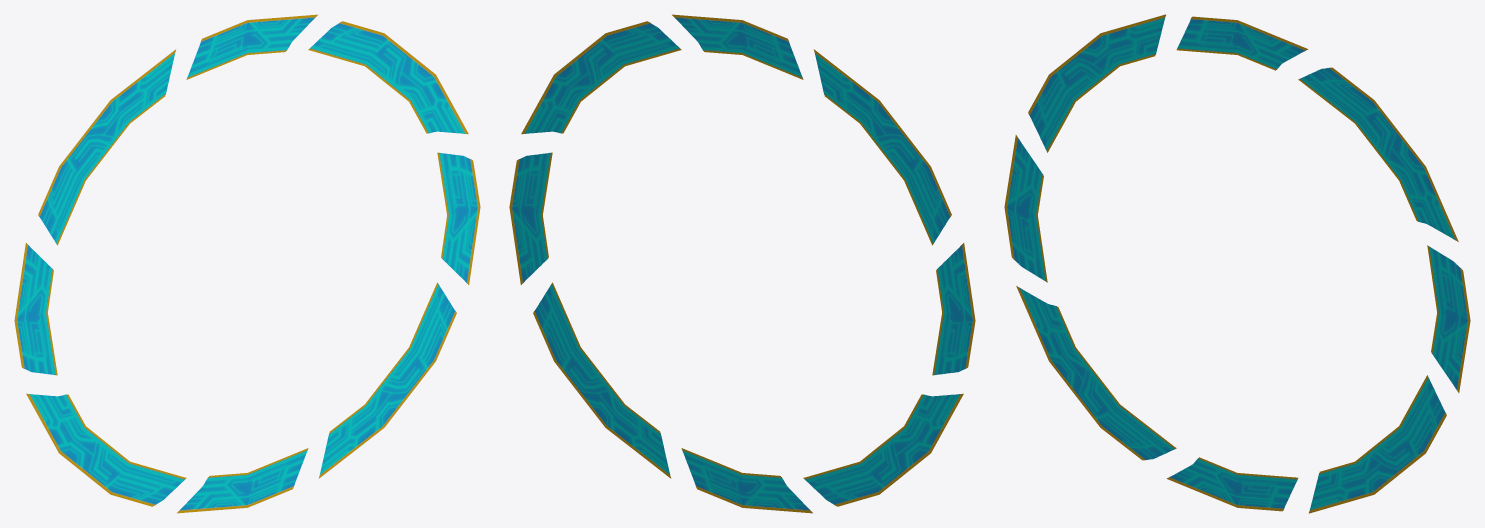
The model's file is Flag.fbx.
The picture shows the model from 3 angles, left to right: view 1: azimuth 30°, elevation 25°; view 2: azimuth 150°, elevation 25°; view 3: azimuth 330°, elevation 25°; orthographic projection.
Parts seen in each view (by area): view 1: pTorus1; view 2: pTorus1; view 3: pTorus1.
Boxes of the visible parts, bbox=[...] form: pTorus1: bbox=[14, 14, 480, 513]; pTorus1: bbox=[509, 14, 975, 513]; pTorus1: bbox=[1004, 14, 1470, 513].
Bounding box in the file's own units: 461 × 461 × 5.92e-06.
1 material, 1 textured.
